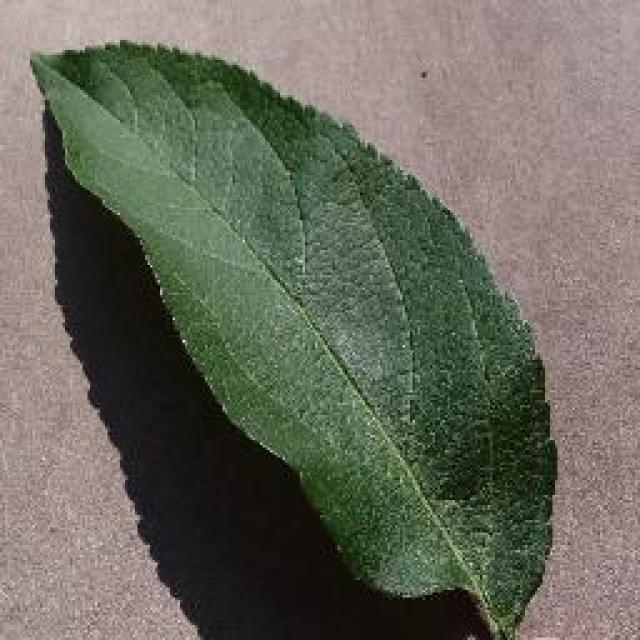apple healthy: (28, 35, 562, 637)
